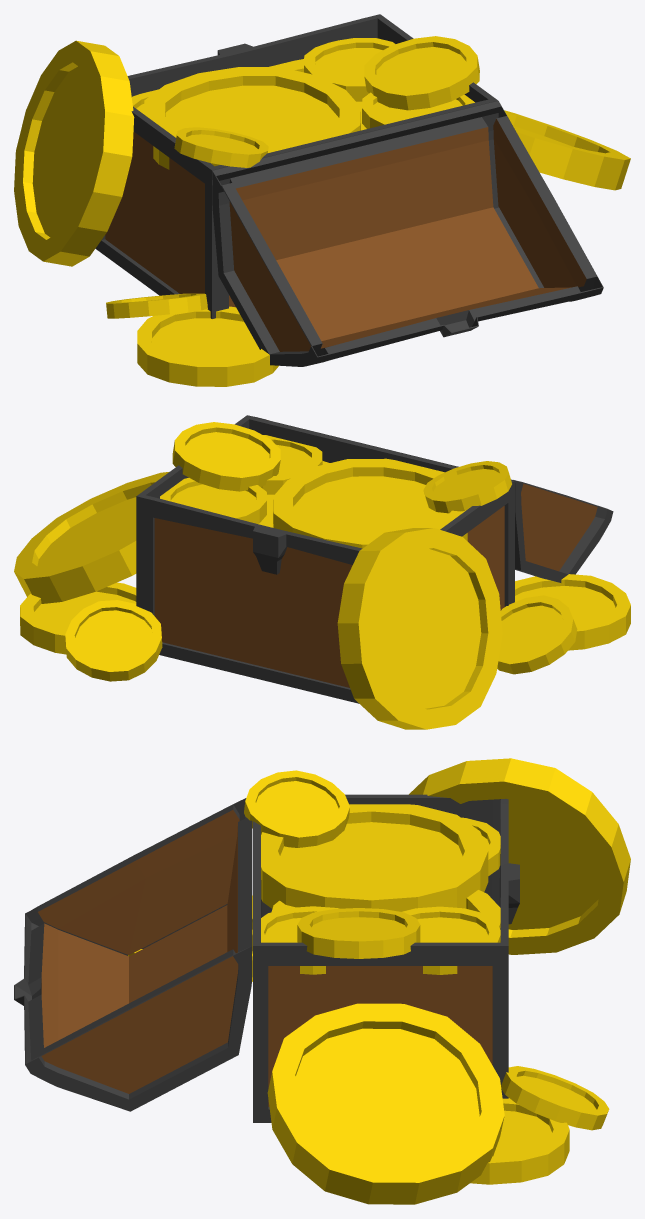
Rendered from Chest2.fbx.
3 views of the same model, one above another, from view 1: azimuth 30°, elevation 25°; view 2: azimuth 150°, elevation 25°; view 3: azimuth 270°, elevation 25° (orthographic). The views are drawn at different scales.
Parts seen in each view (by area): view 1: Chest2; view 2: Chest2; view 3: Chest2.
Part boxes in pixels (left/top/right/bottom): Chest2: left=14, top=14, right=630, bottom=386; Chest2: left=14, top=415, right=630, bottom=729; Chest2: left=14, top=758, right=630, bottom=1204.
Size of the model in its own units: 556 by 191 by 497.
1 material, 1 textured.
